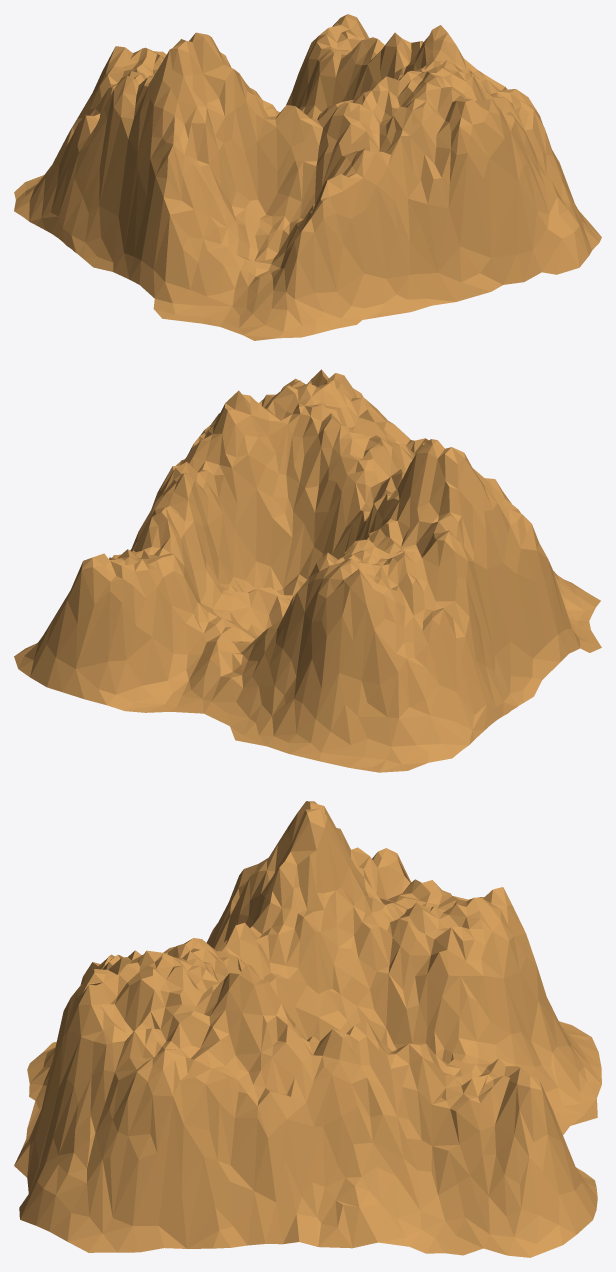
Rendered from result.gltf.
3 views of the same model, one above another, from view 1: azimuth 30°, elevation 25°; view 2: azimuth 150°, elevation 25°; view 3: azimuth 270°, elevation 25° (orthographic). The views are drawn at different scales.
Visible parts, largest first — view 1: Mounting_2; view 2: Mounting_2; view 3: Mounting_2.
Boxes of the visible parts, x1,y1,x2,y2 form: Mounting_2: (14, 14, 601, 340); Mounting_2: (14, 369, 601, 772); Mounting_2: (14, 801, 601, 1257).
Bounding box in the file's own units: 1974 × 979 × 1970.
